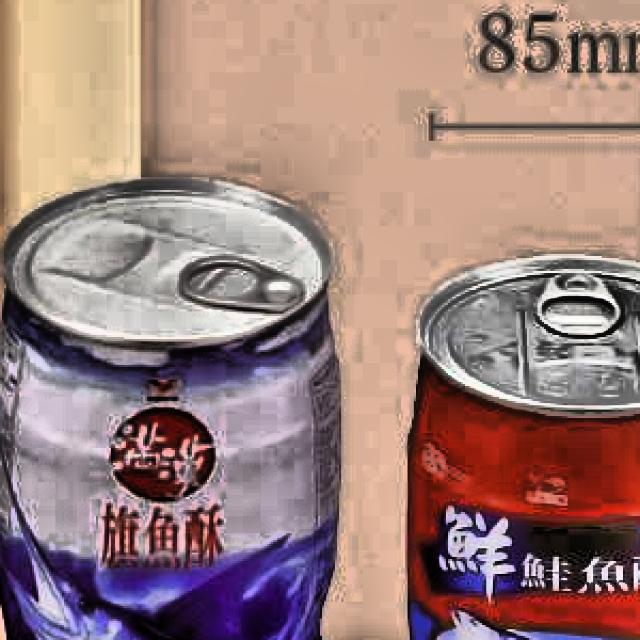metal: (0, 153, 362, 640), (382, 228, 640, 640)
